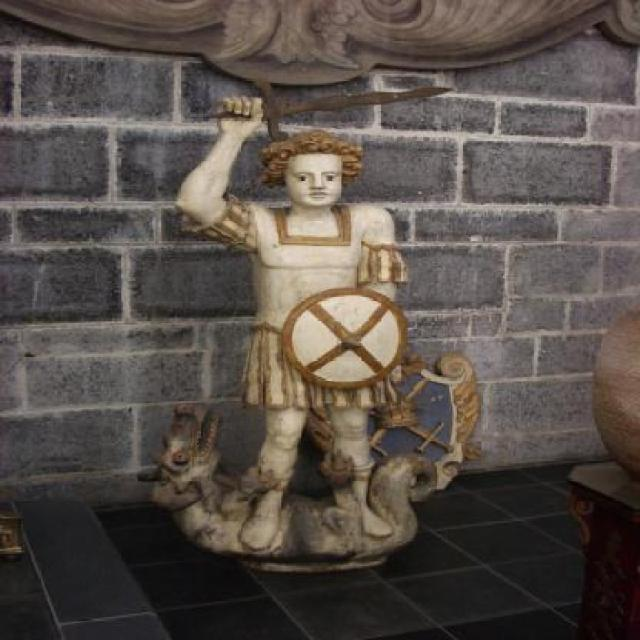Person: (149, 83, 448, 560)
